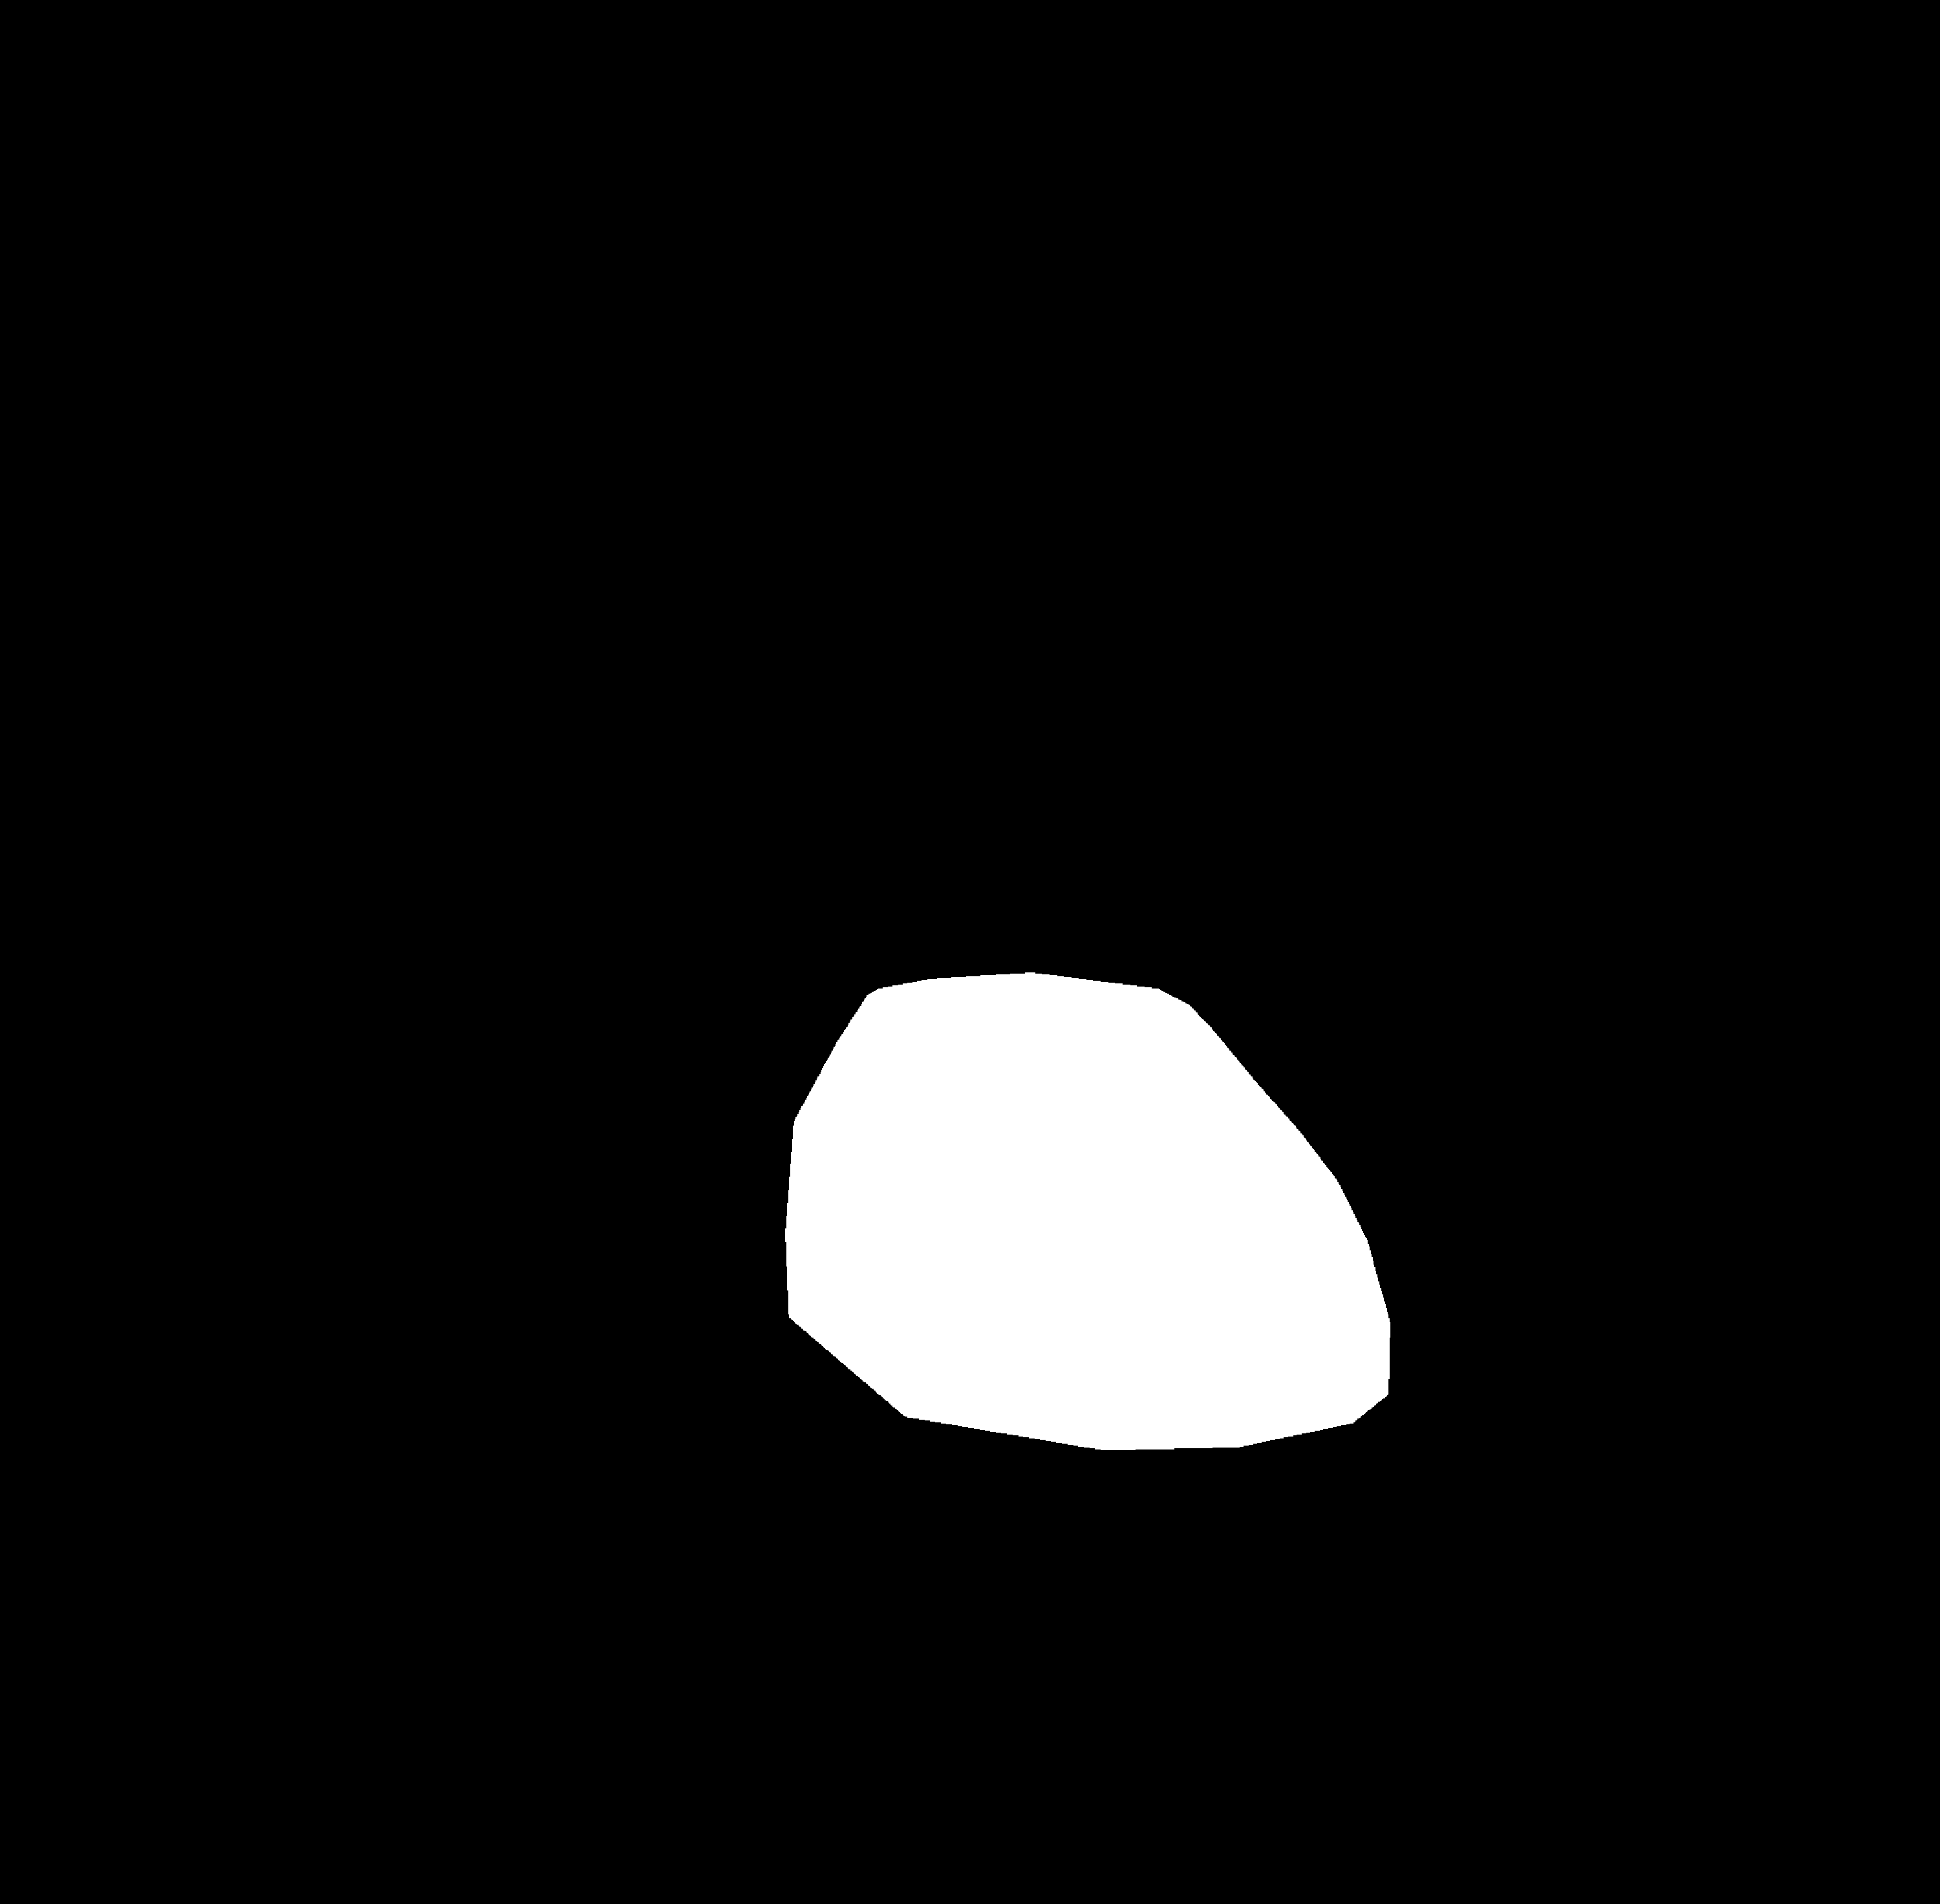heart: (778, 1050, 1399, 1486)
left_lung: (359, 352, 965, 1496)
right_lung: (1101, 345, 1629, 1548)
